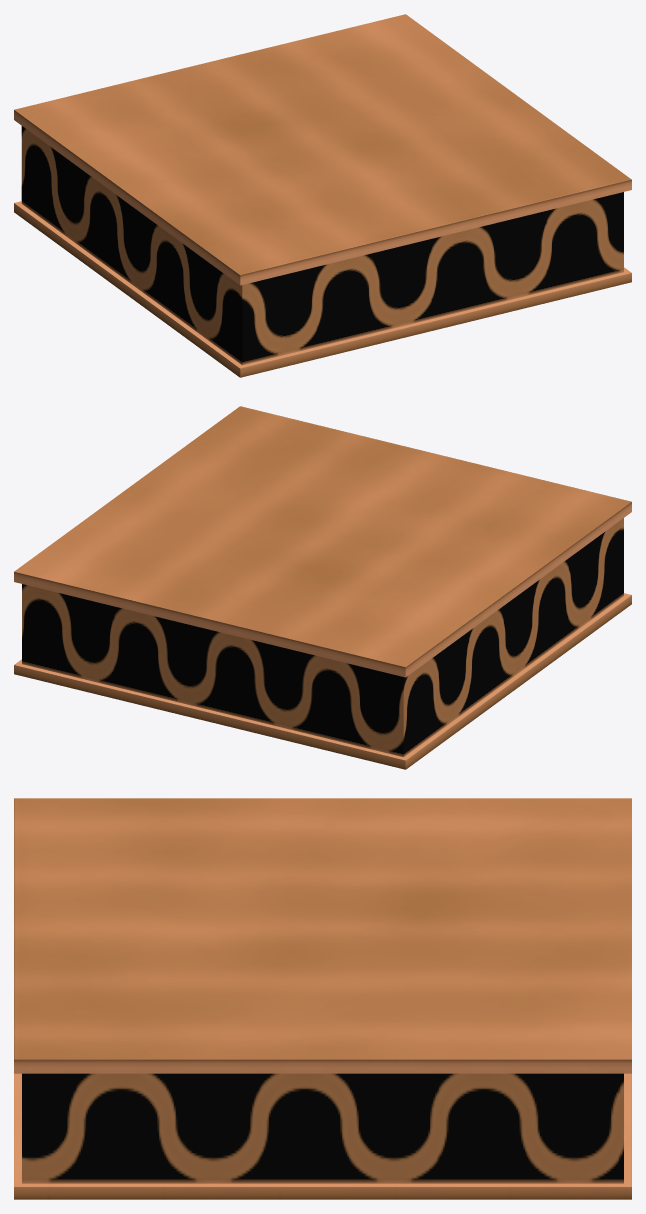
Rendered from M_Cardboard_Square_1x1.fbx.
3 renders of one model, top to bottom at view 1: azimuth 30°, elevation 25°; view 2: azimuth 150°, elevation 25°; view 3: azimuth 270°, elevation 25°, orthographic. The views are drawn at different scales.
Visible parts, largest first — view 1: Panel, Sides; view 2: Panel, Sides; view 3: Panel, Sides.
Boxes of the visible parts, x1=… form: Panel: x1=14, y1=14, x2=631, y2=275; Sides: x1=14, y1=110, x2=631, y2=377; Panel: x1=14, y1=406, x2=631, y2=667; Sides: x1=14, y1=502, x2=631, y2=769; Panel: x1=14, y1=798, x2=631, y2=1059; Sides: x1=14, y1=1059, x2=631, y2=1199.
Size of the model in its own units: 2 by 0.5 by 2.
Materials: 1 (1 with a texture image).
